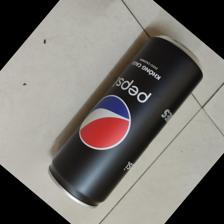Pepsi: (50, 34, 206, 207)
